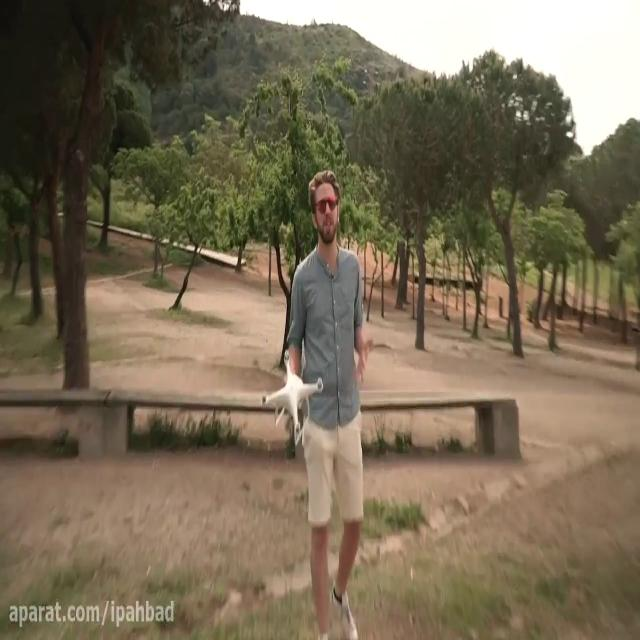drone: (258, 348, 322, 444)
